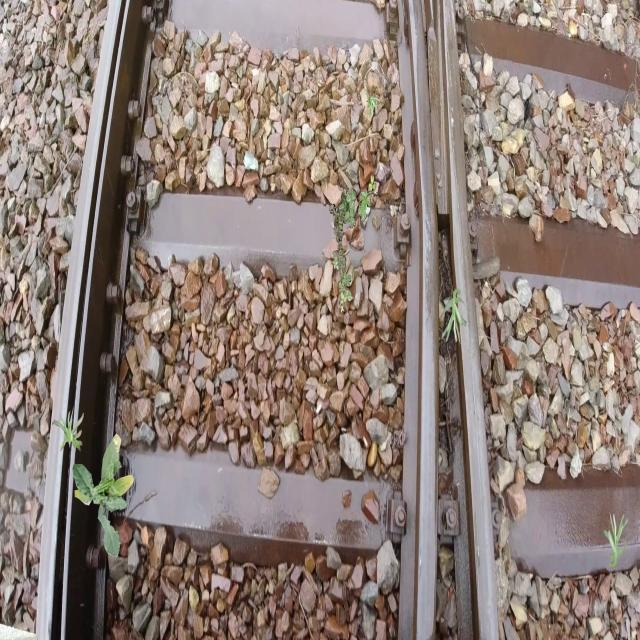Plant: (72, 433, 134, 558), (329, 176, 378, 314), (603, 512, 630, 568), (440, 288, 467, 344), (52, 407, 84, 453), (367, 97, 381, 118)
